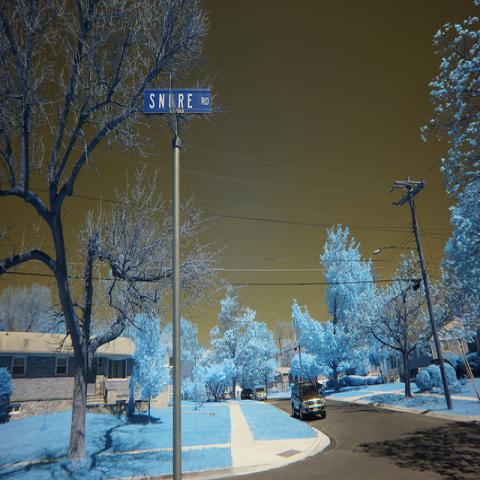car: (254, 387, 267, 401), (241, 388, 254, 400), (218, 392, 232, 400), (267, 386, 279, 395)
truck: (290, 380, 327, 421), (253, 387, 267, 400)
